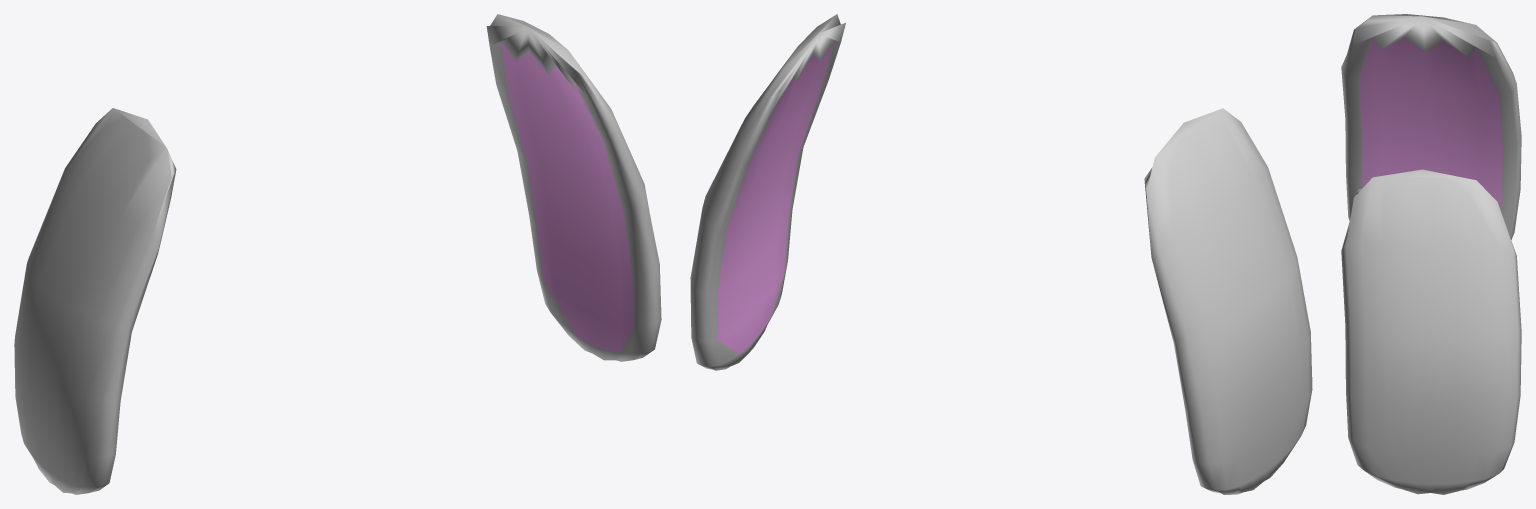
File: floppyEars.obj
3 renders of one model, left to right at view 1: azimuth 30°, elevation 25°; view 2: azimuth 150°, elevation 25°; view 3: azimuth 270°, elevation 25°, orthographic. The views are drawn at different scales.
Parts seen in each view (by area): view 1: Floppy_Ears; view 2: Floppy_Ears; view 3: Floppy_Ears.
Boxes of the visible parts, bbox=[...] form: Floppy_Ears: bbox=[14, 14, 661, 494]; Floppy_Ears: bbox=[690, 14, 1312, 494]; Floppy_Ears: bbox=[1341, 14, 1521, 494].
Size of the model in its own units: 0.7138 by 0.4136 by 0.2324.
